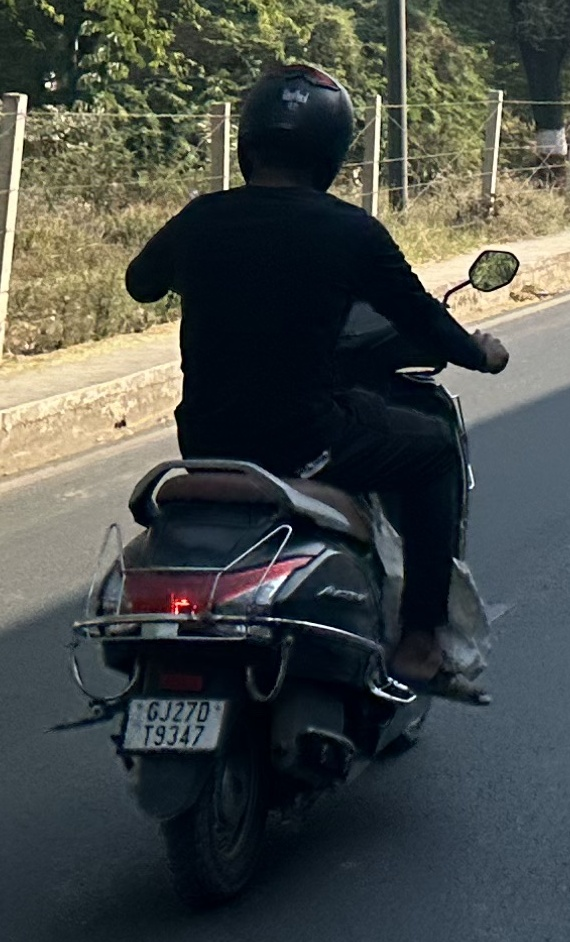BikeWithRider: (36, 50, 528, 920)
Helmet: (223, 53, 366, 202)
